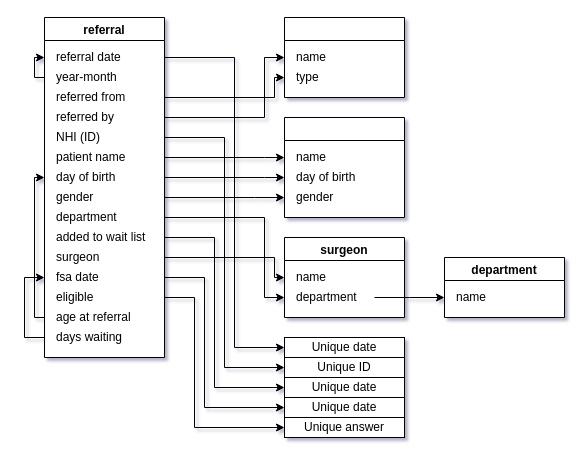
This 588x461 diagram has some shape labels left out. The shapes that lost their labels are listed below. From the top down, each one's box as (x1, y1, x2, y2) in pixels, then its label:
(284, 16, 404, 98): specialist
(284, 116, 404, 218): patient
